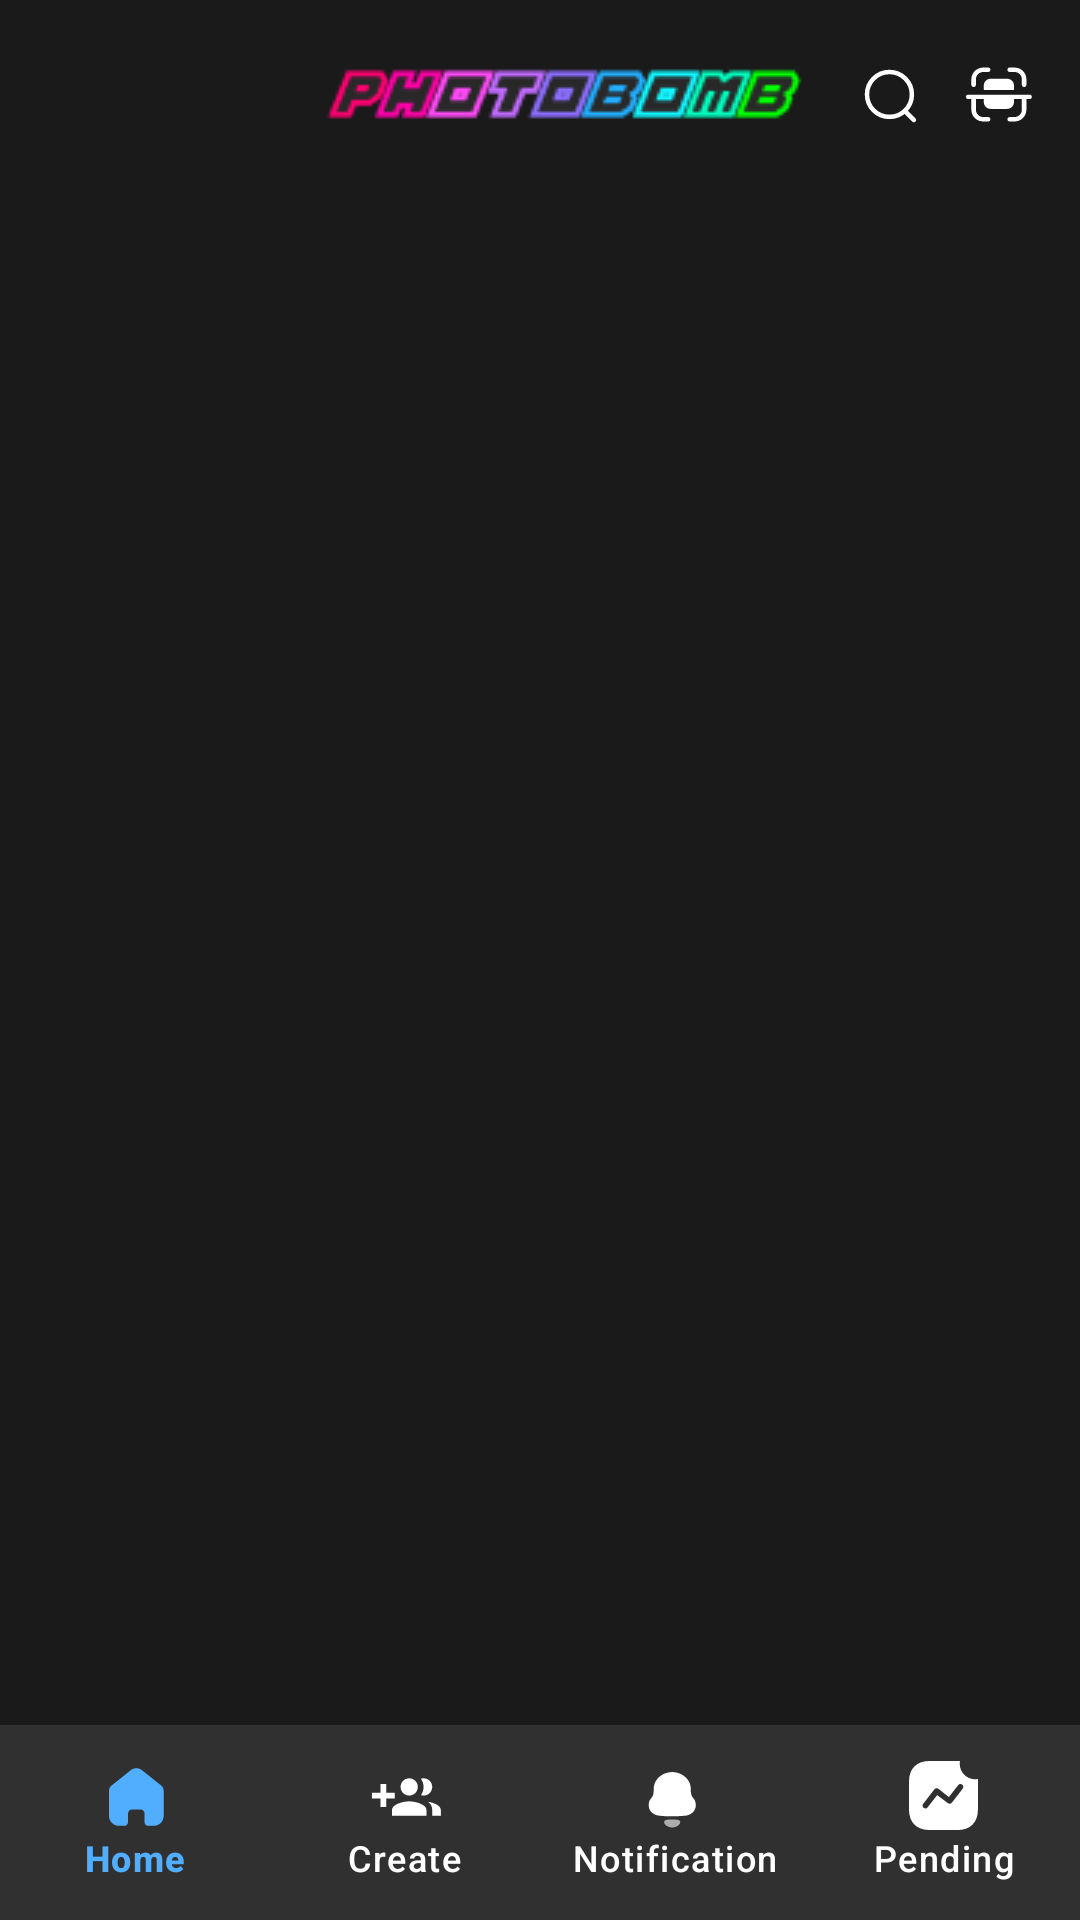

Screen size 1080x1920. Icon name, then its box in pixels as (x1, y1, x2, y2):
scan: (966, 67, 1032, 122)
search: (864, 69, 916, 123)
